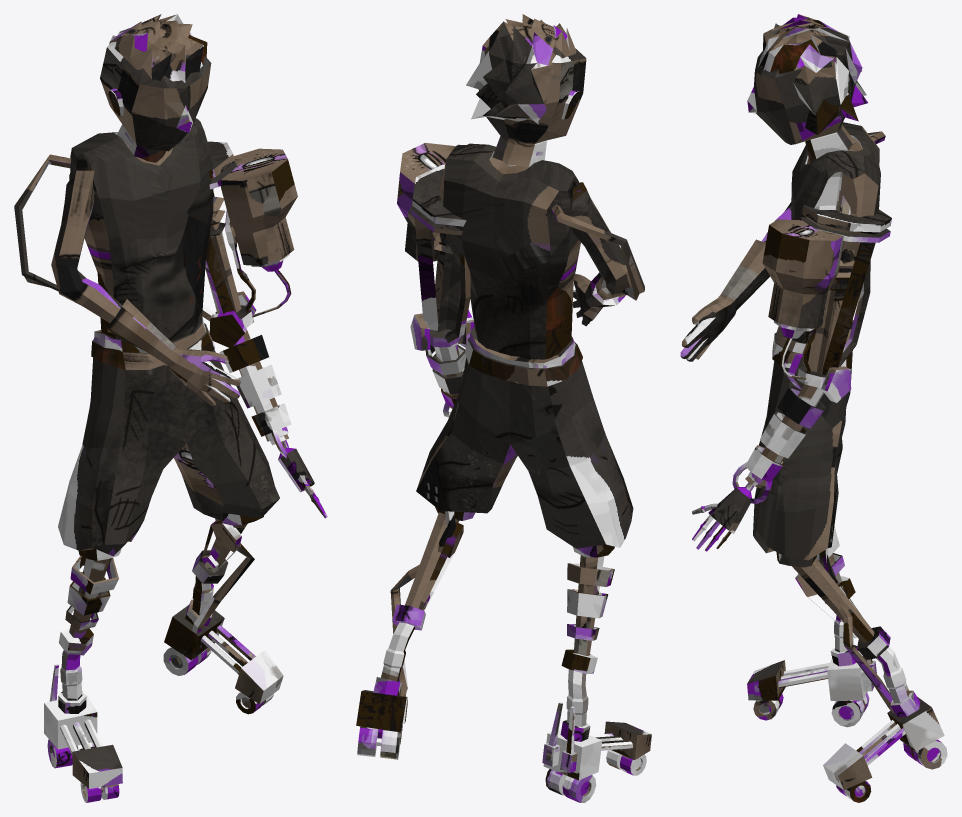
File: CyborgFINALAnimation_000174.obj
3 renders of one model, left to right at view 1: azimuth 30°, elevation 25°; view 2: azimuth 150°, elevation 25°; view 3: azimuth 270°, elevation 25°, orthographic. The views are drawn at different scales.
Visible parts, largest first — view 1: CyborgMesh_Cube.002; view 2: CyborgMesh_Cube.002; view 3: CyborgMesh_Cube.002.
Boxes of the visible parts, box(x1,y1,x2,y2) form: CyborgMesh_Cube.002: box(14, 14, 327, 802); CyborgMesh_Cube.002: box(356, 14, 651, 802); CyborgMesh_Cube.002: box(680, 14, 947, 802).
Size of the model in its own units: 3.61 by 9.66 by 3.2.
